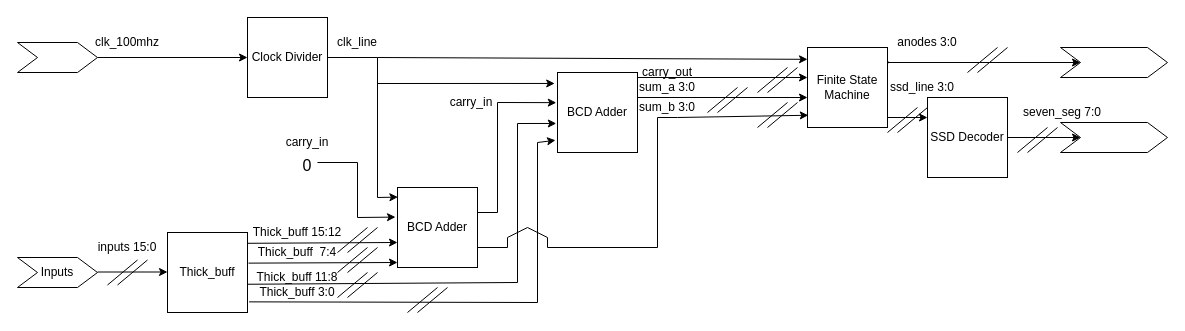
Some shapes in this 1185 by 331 pixel diagram are drawn without their labels. The box of each missing label's shape, as (x1, y1, x2, y2) in pixels:
Anodes: (1060, 46, 1168, 78)
CLK: (16, 42, 98, 72)
Seven_seg: (1060, 122, 1168, 152)
